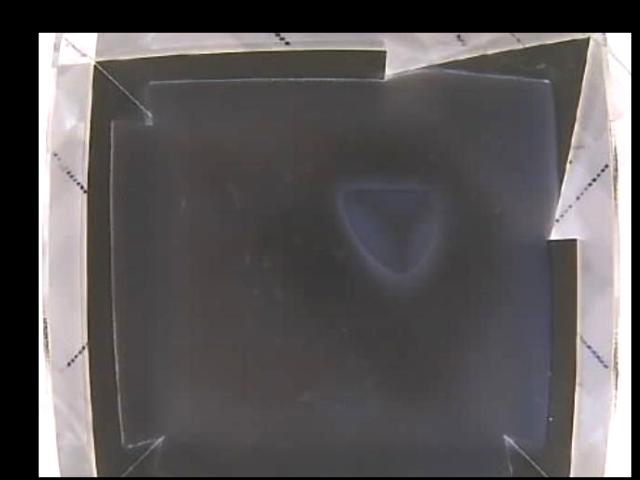Mooli: (339, 187, 438, 275)
